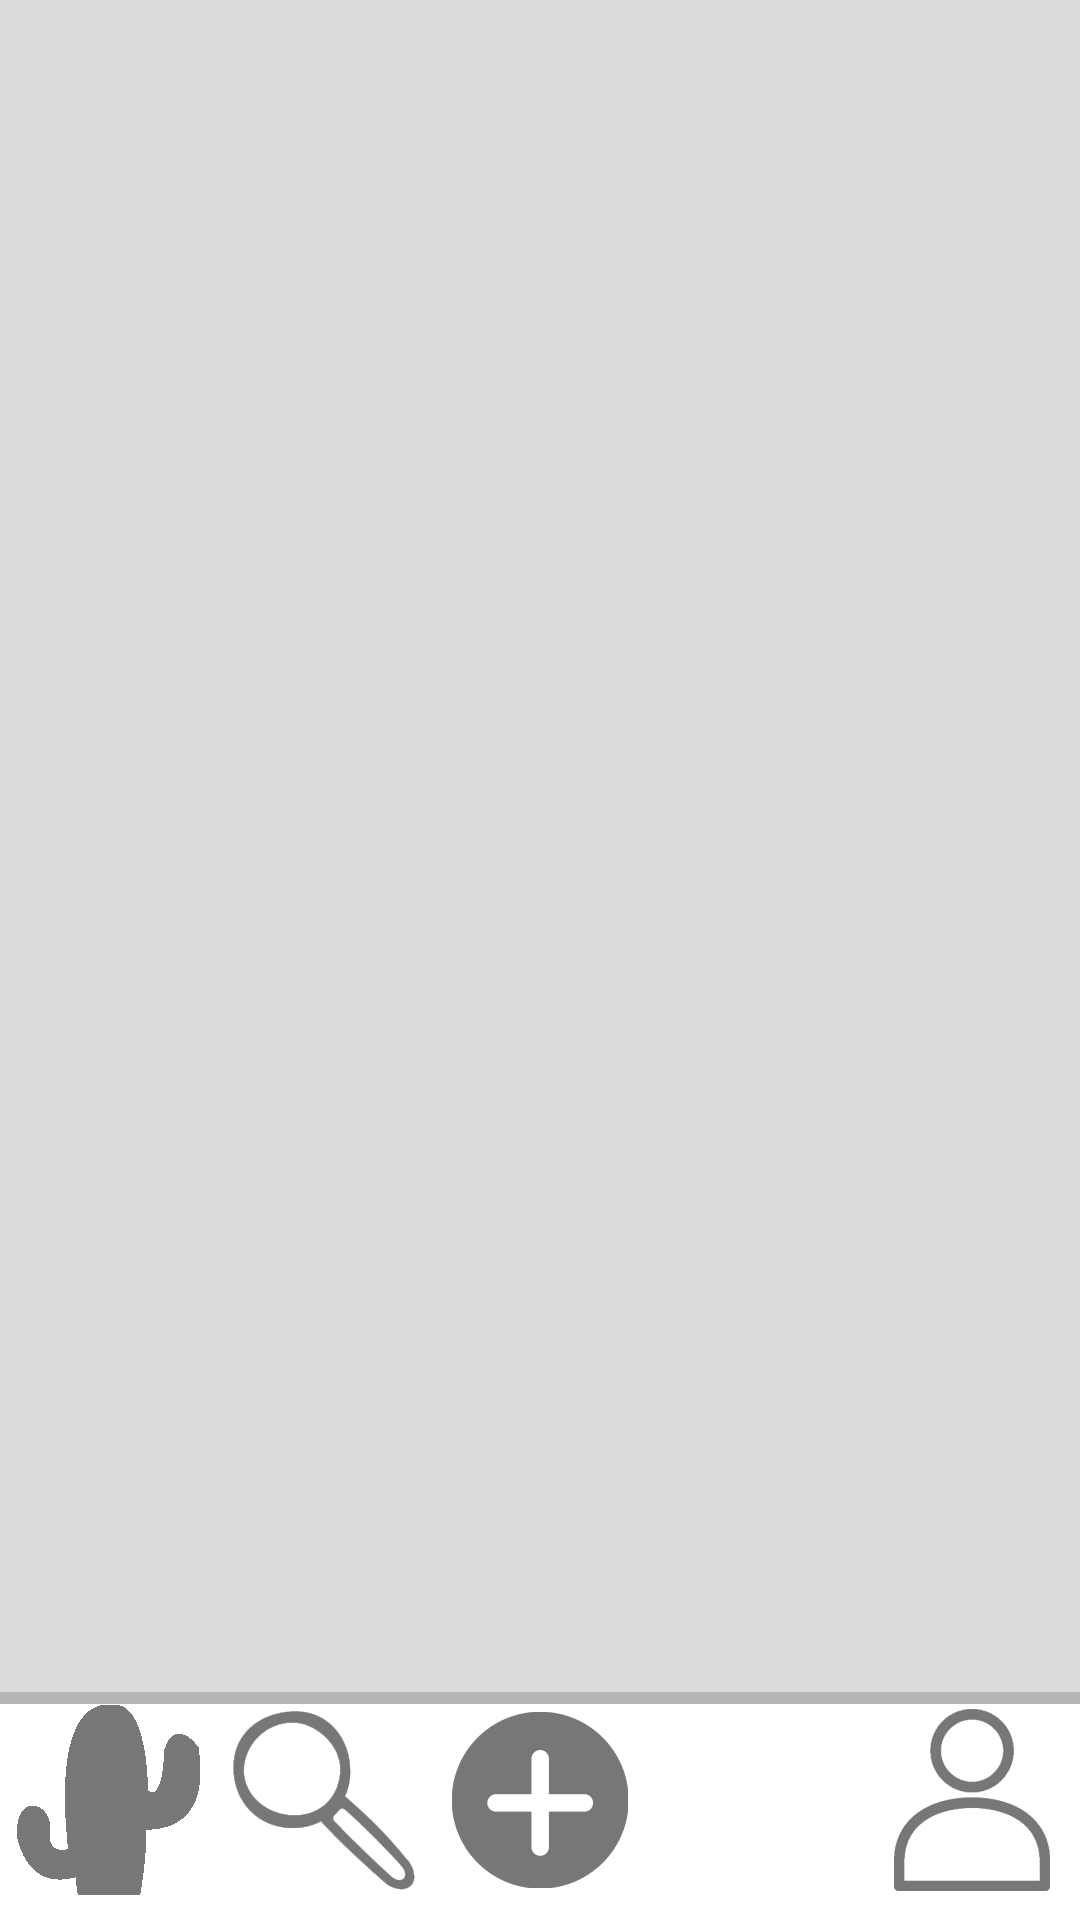

Icons on this 1080px×1920px Android screen, each with the point to tap as [x,y]:
mypage: [972,1800]
plus: [540,1800]
serach: [324,1800]
